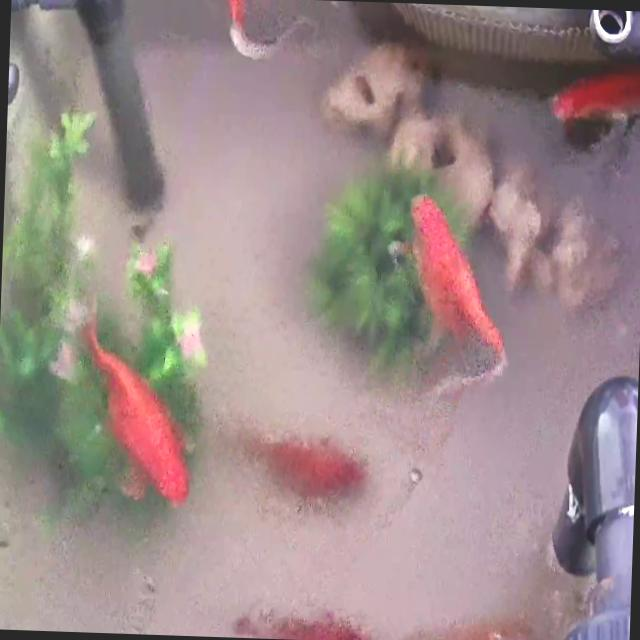fish: (78, 314, 198, 505), (403, 195, 511, 373), (240, 426, 361, 501), (549, 62, 640, 140), (211, 0, 310, 62), (234, 605, 366, 640), (421, 617, 528, 640)
